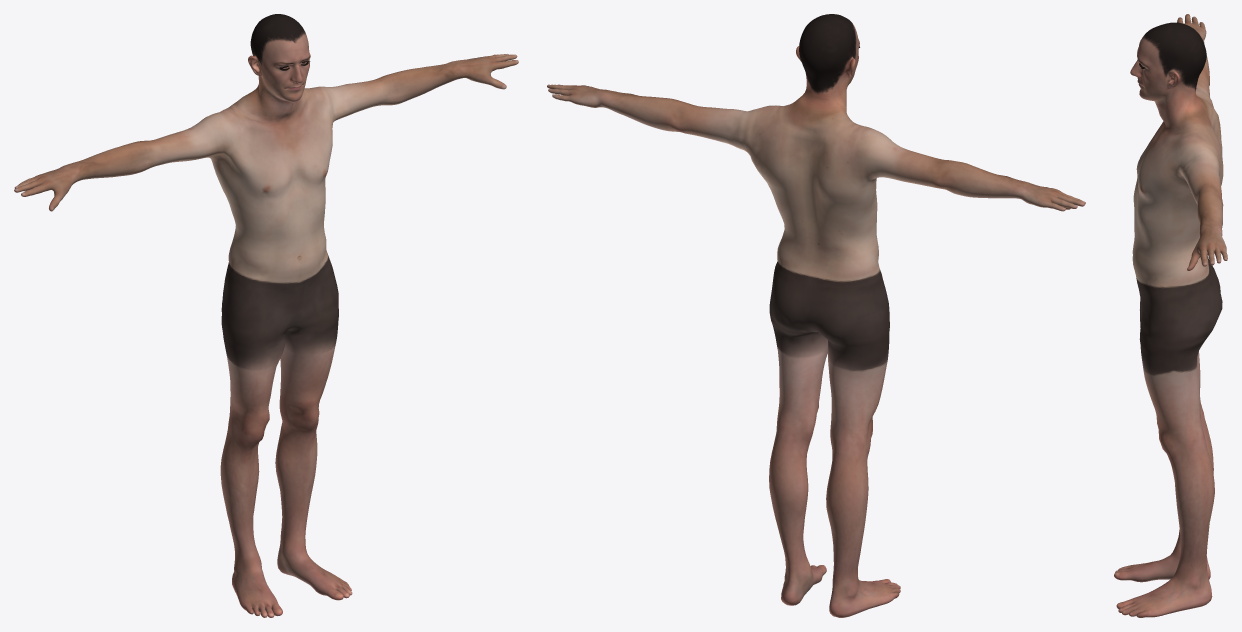
File: male.obj
The picture shows the model from 3 angles, left to right: view 1: azimuth 30°, elevation 25°; view 2: azimuth 150°, elevation 25°; view 3: azimuth 270°, elevation 25°; orthographic projection. The views are drawn at different scales.
Parts seen in each view (by area): view 1: Body; view 2: Body; view 3: Body.
Part boxes in pixels (x1,y1,x2,y2): Body: (14, 14, 518, 617); Body: (547, 14, 1085, 617); Body: (1114, 14, 1227, 617).
Size of the model in its own units: 174 by 184 by 33.4.
1 material, 1 textured.
